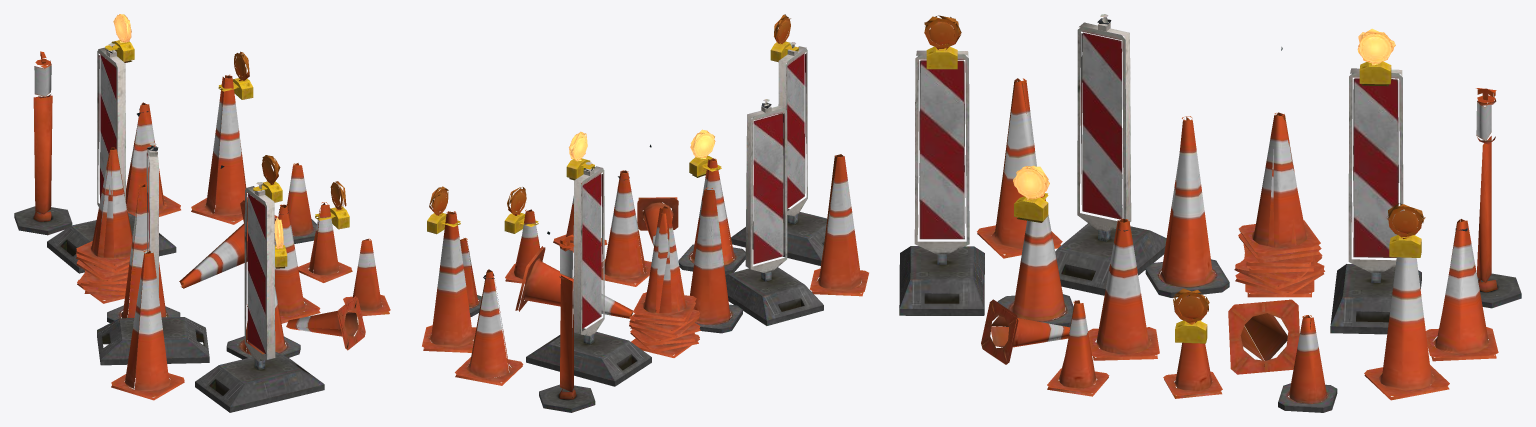
The model's file is traffic_cones.glb.
The picture shows the model from 3 angles, left to right: view 1: azimuth 30°, elevation 25°; view 2: azimuth 150°, elevation 25°; view 3: azimuth 270°, elevation 25°; orthographic projection. The views are drawn at different scales.
Visible parts, largest first — view 1: traffic_cones.001; view 2: traffic_cones.001; view 3: traffic_cones.001.
Boxes of the visible parts, x1=… form: traffic_cones.001: x1=14, y1=14, x2=390, y2=412; traffic_cones.001: x1=422, y1=14, x2=868, y2=412; traffic_cones.001: x1=899, y1=14, x2=1521, y2=412.
Bounding box in the file's own units: 2.38 × 1.66 × 3.29.
2 materials, 2 textured.
